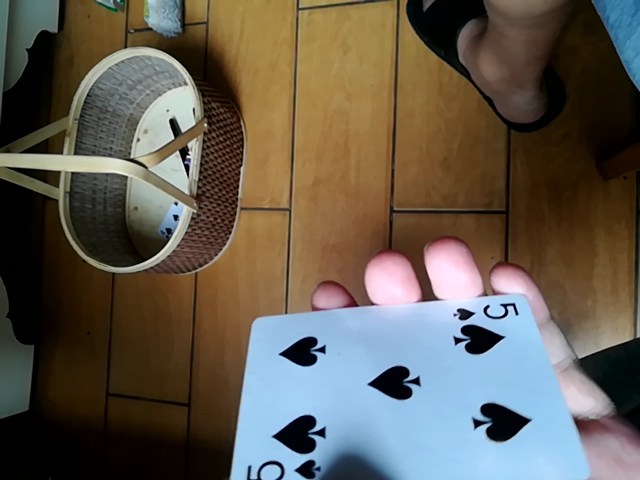ht 5: (235, 273, 586, 476)
